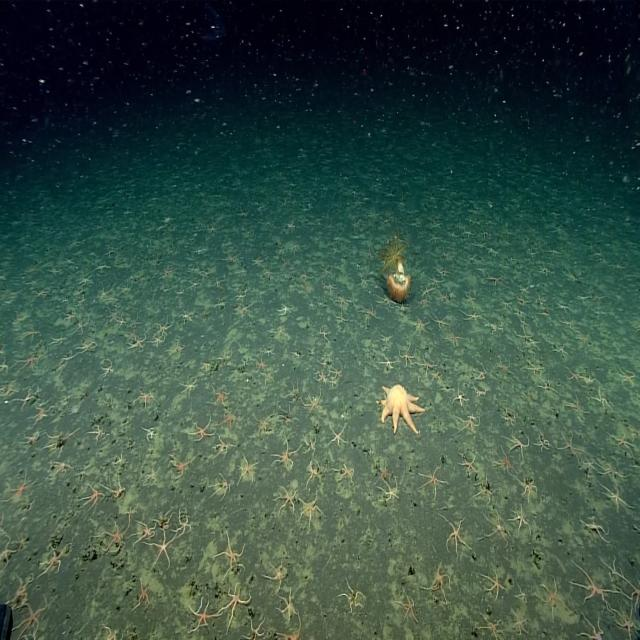brittle-stars: (572, 562, 612, 603), (16, 596, 48, 636), (220, 589, 251, 625), (217, 535, 247, 571), (600, 481, 634, 512), (443, 515, 469, 554), (99, 520, 128, 554), (426, 564, 451, 603), (152, 531, 176, 568), (4, 473, 34, 502), (538, 579, 562, 614), (615, 603, 638, 639), (41, 544, 65, 577), (9, 572, 32, 605), (300, 490, 321, 526), (560, 428, 582, 462), (484, 511, 508, 542), (341, 579, 364, 611), (582, 515, 609, 542), (420, 466, 444, 496), (192, 599, 214, 631), (47, 428, 75, 453), (578, 612, 603, 640), (398, 589, 418, 623), (479, 612, 505, 638), (480, 570, 504, 598), (275, 438, 297, 467), (596, 459, 626, 480), (510, 503, 530, 533), (504, 432, 529, 456), (275, 486, 298, 512), (219, 404, 242, 429), (83, 482, 105, 508), (610, 432, 636, 454), (134, 520, 157, 544), (280, 589, 298, 619), (170, 454, 192, 478), (191, 416, 213, 440), (456, 413, 480, 435), (238, 455, 256, 484), (476, 478, 496, 504), (266, 561, 285, 588), (510, 607, 528, 635), (566, 392, 586, 416), (212, 475, 231, 499), (522, 358, 544, 378), (336, 461, 355, 484), (594, 387, 613, 410), (136, 580, 152, 607), (495, 448, 512, 473), (20, 351, 40, 372), (286, 380, 303, 404), (175, 511, 191, 536), (461, 452, 477, 477), (328, 425, 347, 446), (215, 434, 233, 456), (180, 376, 198, 398), (519, 476, 537, 498), (618, 366, 636, 388), (258, 413, 274, 437), (52, 459, 72, 478), (418, 354, 437, 374), (382, 480, 400, 501), (452, 387, 470, 408), (302, 432, 317, 456), (306, 395, 326, 413), (35, 401, 52, 421), (306, 460, 322, 481), (169, 337, 185, 358), (23, 324, 41, 342), (78, 338, 96, 356), (155, 318, 173, 336), (564, 366, 582, 384), (92, 423, 109, 442), (100, 356, 114, 379), (212, 386, 228, 406), (374, 465, 390, 485), (376, 292, 396, 308), (431, 312, 451, 328), (444, 331, 464, 347), (534, 433, 550, 452), (73, 316, 88, 336), (130, 335, 146, 353), (380, 350, 396, 368), (361, 302, 377, 320), (462, 309, 480, 325), (138, 390, 155, 406), (128, 313, 143, 331), (399, 347, 414, 365), (413, 315, 428, 333), (52, 332, 67, 348), (151, 332, 166, 348), (278, 302, 293, 318), (474, 363, 486, 383), (98, 284, 111, 302), (334, 310, 348, 326), (256, 353, 267, 373), (316, 368, 328, 385), (554, 343, 568, 357), (274, 324, 287, 339), (145, 426, 157, 442), (335, 296, 351, 308), (464, 290, 476, 306), (486, 273, 502, 285), (431, 273, 442, 290), (324, 280, 339, 292), (238, 204, 250, 219), (264, 265, 276, 280), (415, 296, 430, 308), (161, 266, 174, 279), (298, 270, 311, 283), (235, 290, 247, 304), (518, 282, 530, 296), (585, 457, 596, 472), (331, 366, 343, 379), (432, 369, 441, 386), (252, 255, 264, 267), (187, 264, 197, 276)
